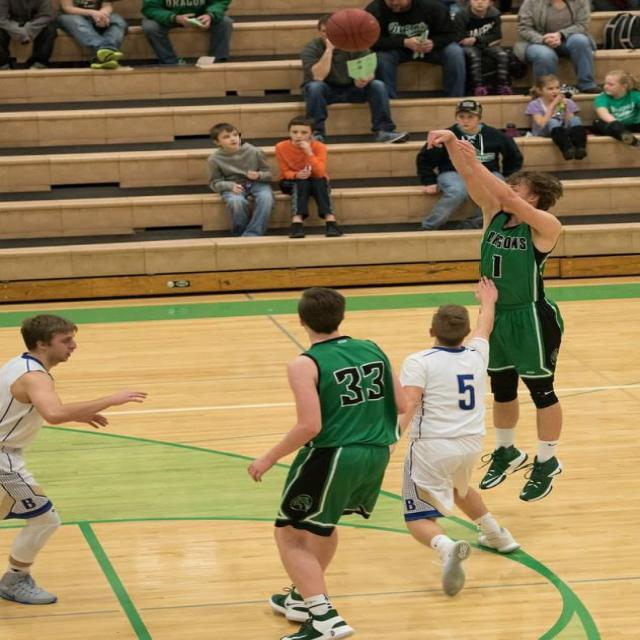Basketball: (326, 8, 379, 52)
